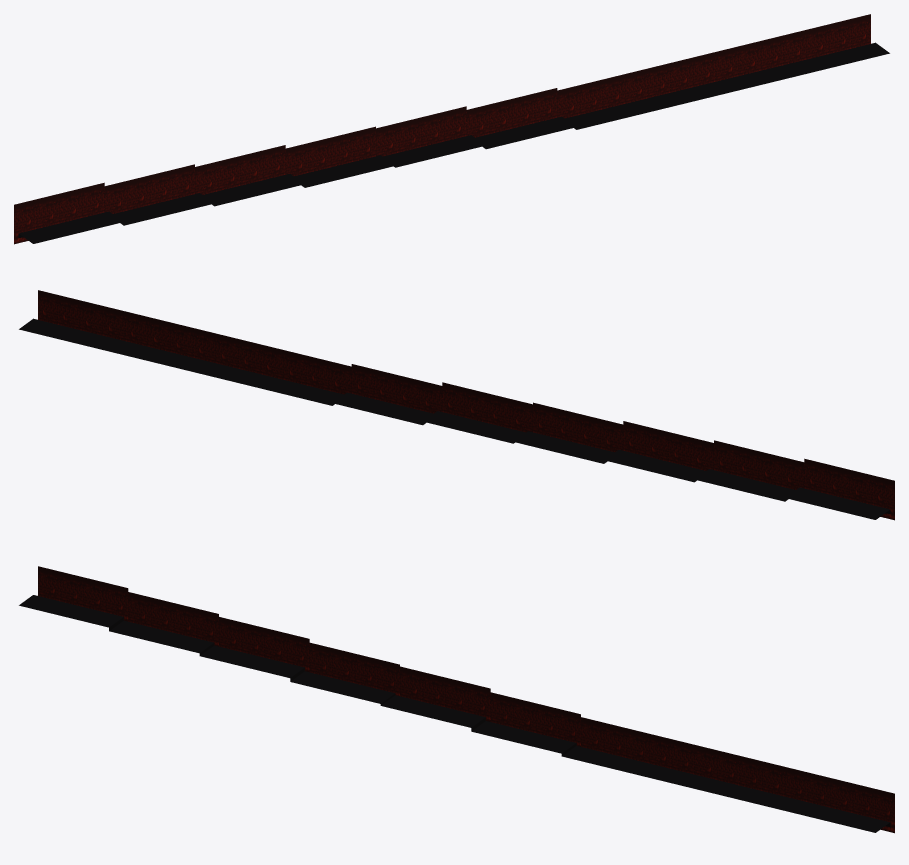
The model's file is EggmanSecretaVermelha.glb.
3 views of the same model, one above another, from view 1: azimuth 30°, elevation 25°; view 2: azimuth 150°, elevation 25°; view 3: azimuth 330°, elevation 25° (orthographic).
Parts seen in each view (by area): view 1: Eggman_Sector_0, Eggman_Sector_8, Eggman_Sector_7, Eggman_Sector_4, Eggman_Sector_5, Eggman_Sector_3, Eggman_Sector_1, Eggman_Sector_9, Eggman_Sector_6, Eggman_Sector_2; view 2: Eggman_Sector_0, Eggman_Sector_8, Eggman_Sector_7, Eggman_Sector_4, Eggman_Sector_5, Eggman_Sector_3, Eggman_Sector_1, Eggman_Sector_9, Eggman_Sector_6, Eggman_Sector_2; view 3: Eggman_Sector_3, Eggman_Sector_5, Eggman_Sector_1, Eggman_Sector_4, Eggman_Sector_0, Eggman_Sector_8, Eggman_Sector_7, Eggman_Sector_9, Eggman_Sector_6, Eggman_Sector_2.
Part boxes in pixels (box(x1,y1,x2,y2)): Eggman_Sector_0: box(14, 182, 123, 244); Eggman_Sector_8: box(693, 35, 802, 96); Eggman_Sector_7: box(602, 57, 711, 118); Eggman_Sector_4: box(353, 112, 462, 171); Eggman_Sector_5: box(444, 93, 553, 150); Eggman_Sector_3: box(263, 132, 372, 189); Eggman_Sector_1: box(104, 164, 213, 225); Eggman_Sector_9: box(783, 14, 889, 74); Eggman_Sector_6: box(534, 79, 621, 132); Eggman_Sector_2: box(195, 150, 281, 206); Eggman_Sector_0: box(785, 458, 894, 520); Eggman_Sector_8: box(106, 311, 215, 372); Eggman_Sector_7: box(197, 333, 306, 394); Eggman_Sector_4: box(446, 388, 555, 447); Eggman_Sector_5: box(355, 369, 464, 426); Eggman_Sector_3: box(536, 408, 645, 465); Eggman_Sector_1: box(695, 440, 804, 501); Eggman_Sector_9: box(19, 290, 125, 350); Eggman_Sector_6: box(287, 355, 374, 408); Eggman_Sector_2: box(627, 426, 713, 482); Eggman_Sector_3: box(268, 633, 377, 698); Eggman_Sector_5: box(449, 683, 558, 747); Eggman_Sector_1: box(109, 592, 218, 653); Eggman_Sector_4: box(358, 659, 467, 722); Eggman_Sector_0: box(19, 566, 128, 627); Eggman_Sector_8: box(698, 750, 807, 811); Eggman_Sector_7: box(607, 728, 716, 789); Eggman_Sector_9: box(788, 772, 894, 833); Eggman_Sector_6: box(539, 709, 626, 767); Eggman_Sector_2: box(199, 617, 286, 672).
Bounding box in the file's own units: 258 × 16.66 × 12.47.
Materials: 1 (1 with a texture image).
